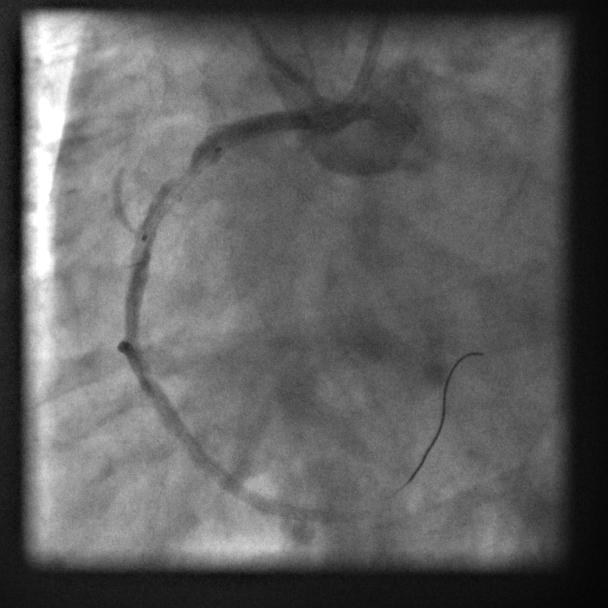Stenosis: (169, 154, 202, 194)
